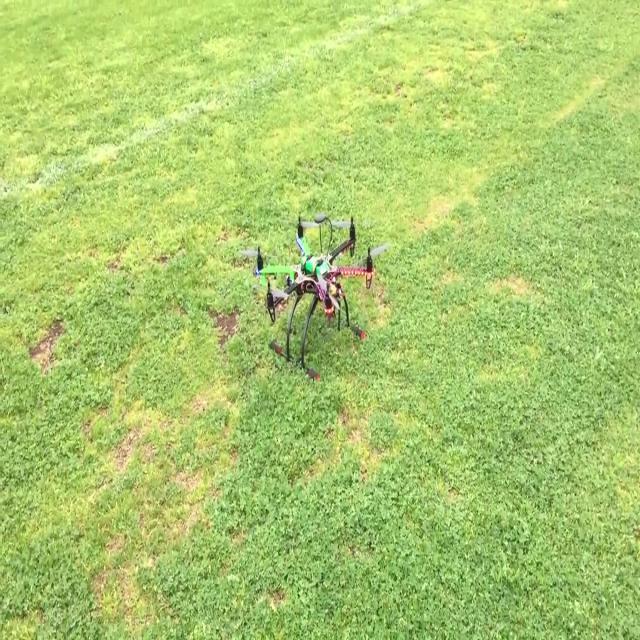drone: (219, 201, 388, 379)
